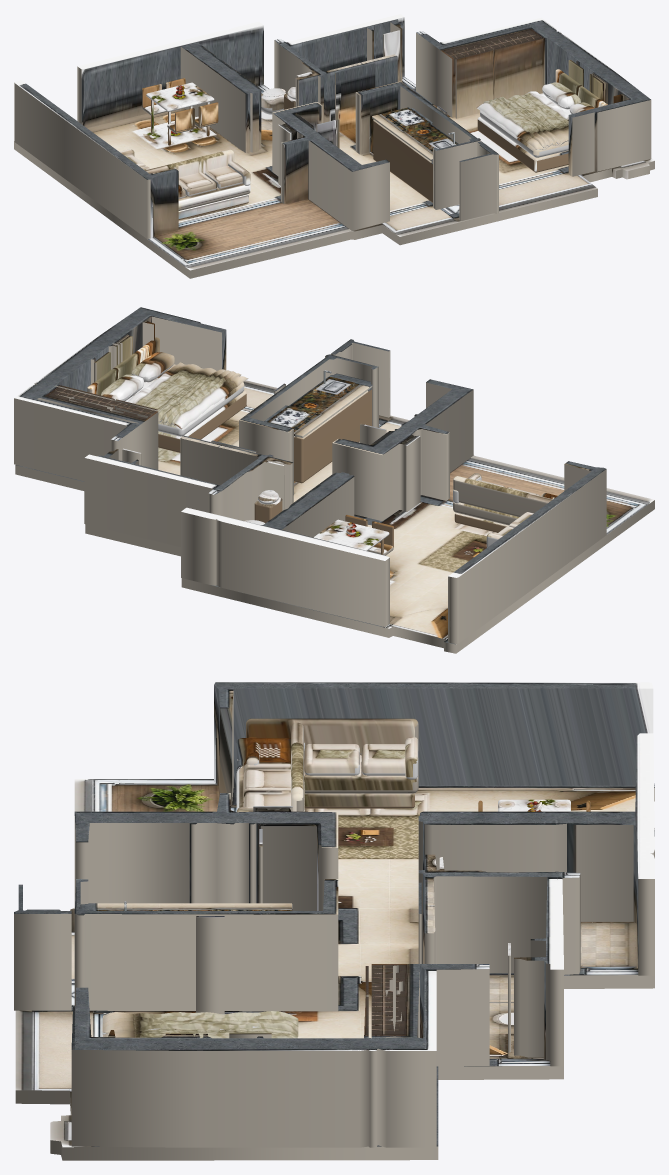
Rendered from p13-09-u09-2112-image-model.glb.
3 views of the same model, one above another, from view 1: azimuth 30°, elevation 25°; view 2: azimuth 150°, elevation 25°; view 3: azimuth 270°, elevation 25° (orthographic). The views are drawn at different scales.
Visible parts, largest first — view 1: Partition walls, Apartment floor, Kitchen cabinets, Draped bed linen, Walnut upholstered base, Stone worktop, Draped bed linen.001, Marble dining top, Sofa back.001, Upholstered sofa frame.001, Piped mattress, Sofa plinth.001 (+7 smaller); view 2: Partition walls, Apartment floor, Kitchen cabinets, Draped bed linen, Sofa back.001, Stone worktop, Draped bed linen.001, Walnut upholstered base, Marble dining top, Upholstered headboard, Piped mattress, Tailored pillow (+4 smaller); view 3: Partition walls, Apartment floor, Sofa back, Draped bed linen.001, Upholstered sofa frame, Seat cushion.001, Sofa plinth, Stone worktop, Draped bed linen, Seat cushion.002, Seat cushion.004, Sofa back.001 (+2 smaller).
Boxes of the visible parts, left/top/right/bottom form: Partition walls: left=14, top=14, right=651, bottom=238; Apartment floor: left=14, top=76, right=654, bottom=278; Kitchen cabinets: left=373, top=119, right=432, bottom=202; Draped bed linen: left=476, top=91, right=568, bottom=149; Walnut upholstered base: left=477, top=117, right=568, bottom=172; Stone worktop: left=372, top=107, right=458, bottom=162; Draped bed linen.001: left=483, top=97, right=560, bottom=148; Marble dining top: left=146, top=82, right=214, bottom=111; Sofa back.001: left=145, top=149, right=234, bottom=177; Upholstered sofa frame.001: left=178, top=183, right=250, bottom=210; Piped mattress: left=480, top=93, right=570, bottom=157; Sofa plinth.001: left=178, top=194, right=248, bottom=219; Partition walls: left=14, top=307, right=606, bottom=643; Apartment floor: left=15, top=380, right=654, bottom=653; Kitchen cabinets: left=294, top=388, right=371, bottom=483; Draped bed linen: left=128, top=361, right=248, bottom=429; Sofa back.001: left=453, top=476, right=552, bottom=516; Stone worktop: left=289, top=373, right=372, bottom=437; Draped bed linen.001: left=158, top=369, right=241, bottom=425; Walnut upholstered base: left=158, top=391, right=246, bottom=452; Marble dining top: left=314, top=519, right=389, bottom=550; Upholstered headboard: left=87, top=337, right=159, bottom=395; Piped mattress: left=125, top=364, right=244, bottom=436; Tailored pillow: left=131, top=352, right=174, bottom=382; Partition walls: left=14, top=682, right=654, bottom=1147; Apartment floor: left=15, top=779, right=654, bottom=1160; Sofa back: left=246, top=718, right=418, bottom=754; Draped bed linen.001: left=102, top=1011, right=298, bottom=1036; Upholstered sofa frame: left=304, top=754, right=418, bottom=793; Seat cushion.001: left=304, top=744, right=359, bottom=775; Sofa plinth: left=305, top=793, right=414, bottom=808; Stone worktop: left=80, top=903, right=292, bottom=910; Draped bed linen: left=103, top=1012, right=297, bottom=1038; Seat cushion.002: left=362, top=744, right=405, bottom=775; Seat cushion.004: left=243, top=769, right=290, bottom=797; Sofa back.001: left=291, top=722, right=303, bottom=811.
Bounding box in the file's own units: 9.33 × 1.3 × 6.85.
Materials: 13 (3 with a texture image).
